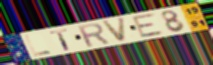8: (161, 9, 187, 33)
E: (131, 12, 167, 39)
L: (23, 34, 53, 57)
R: (75, 22, 112, 48)
T: (48, 28, 73, 51)
V: (101, 16, 127, 44)
